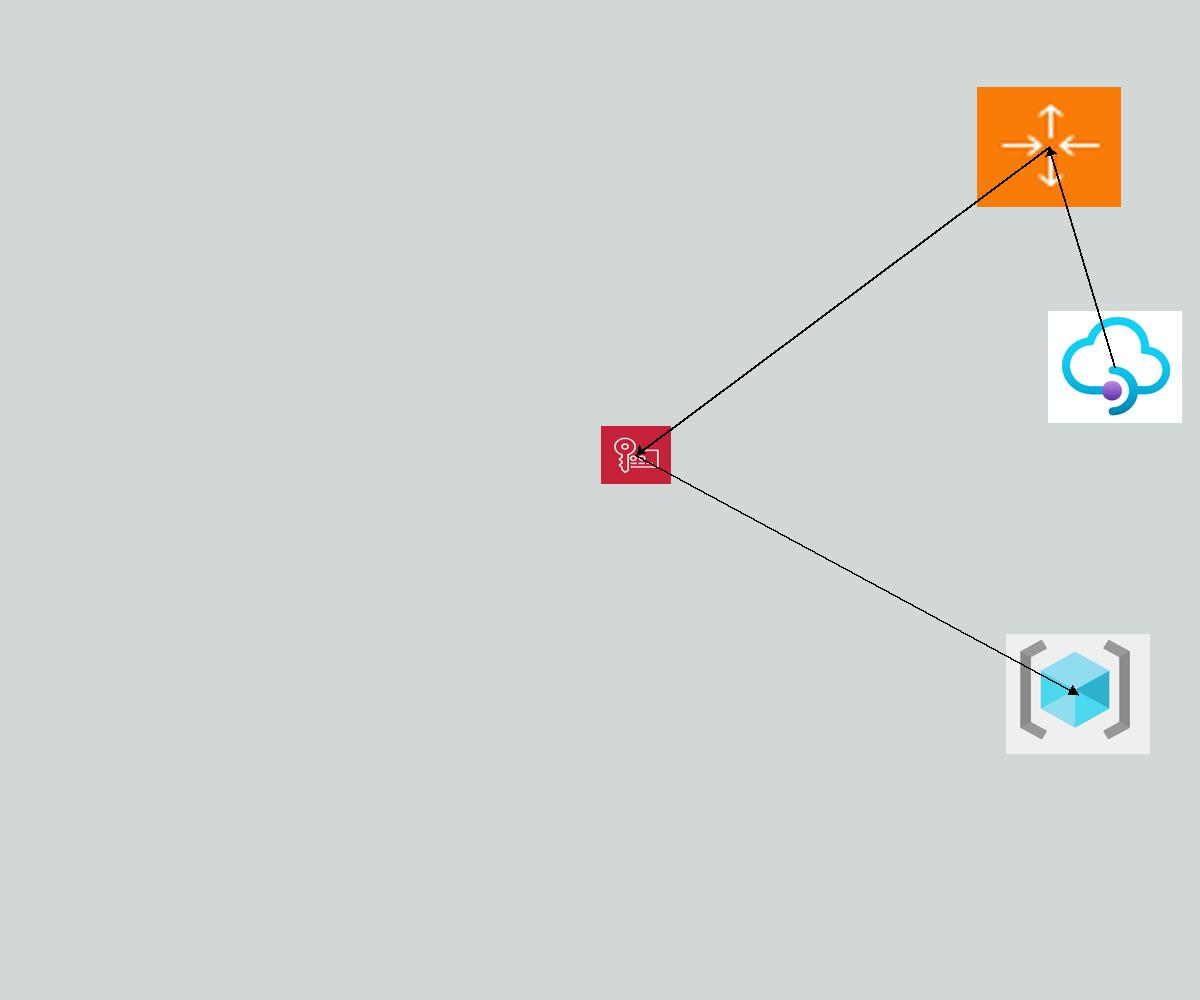AWS-Key-Management-Service: (601, 426, 671, 484)
AWS-Scaling-group: (977, 87, 1121, 207)
Azure_api_gateway: (1048, 311, 1182, 423)
Azure_resource_group: (1006, 634, 1150, 754)
